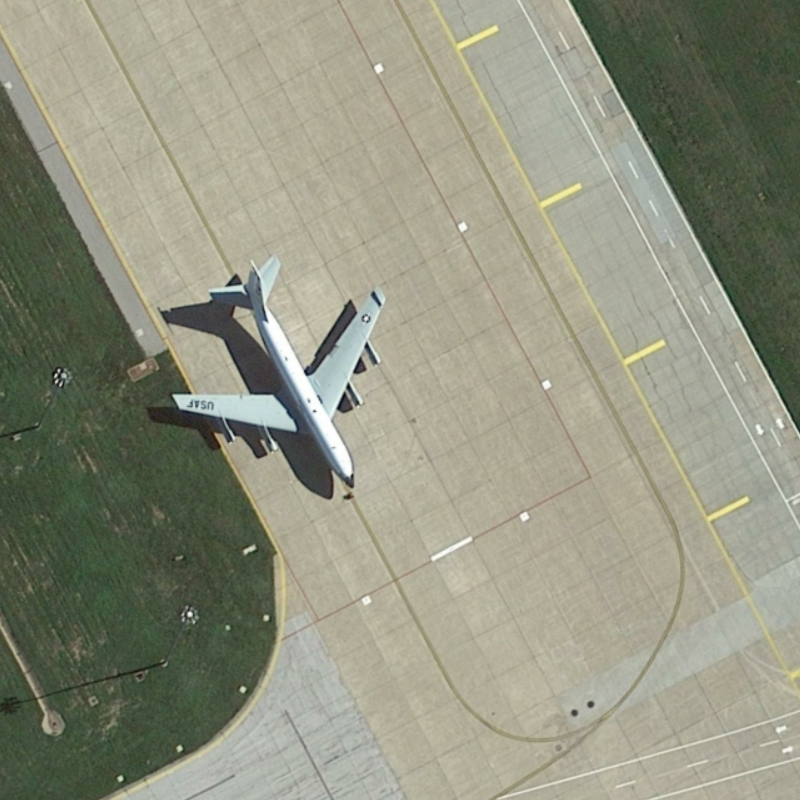A11: (167, 246, 393, 492)
